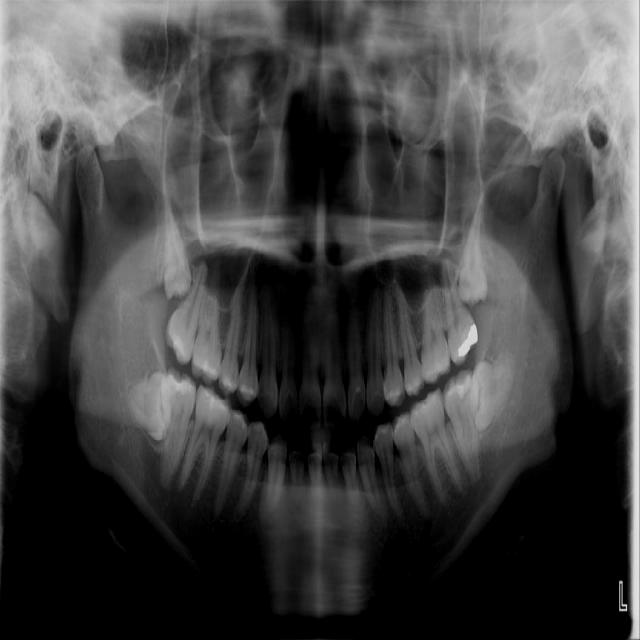Filling: (456, 322, 479, 357), (443, 374, 474, 399)
impacted tooth: (454, 191, 489, 304), (471, 348, 514, 431), (163, 195, 195, 299), (125, 371, 169, 442)
